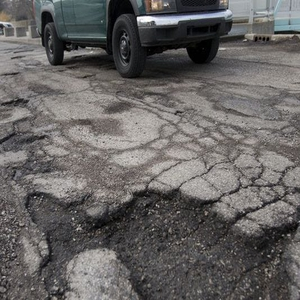pothole: (28, 192, 285, 300), (1, 98, 54, 171)
